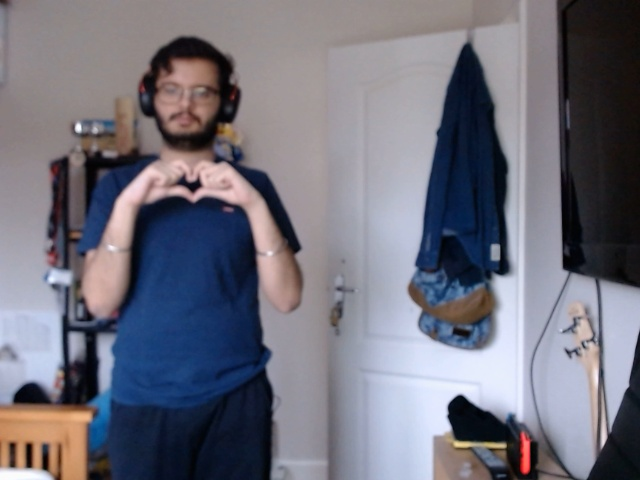Heart: (139, 155, 240, 211)
